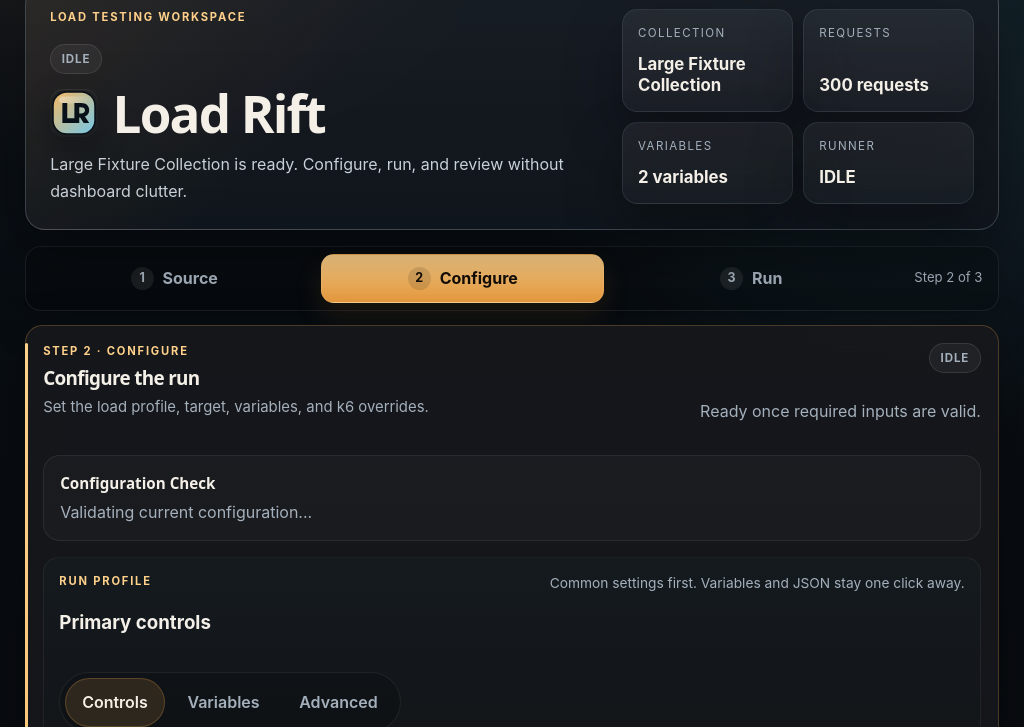
App collection summary › limits initial rendering for large request lists and reveals more on demand
The width and height of the screenshot is (1024, 727).
Click the tab "1 Source": [174, 278] box left=33, top=254, right=316, bottom=303
(page scrolled)
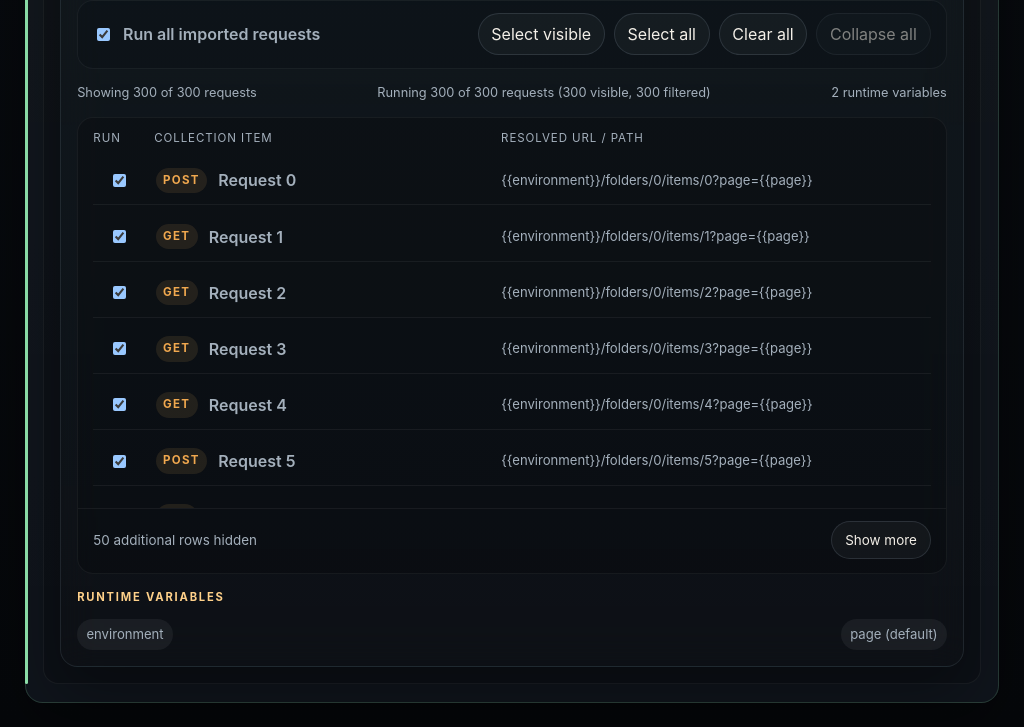
Expected: the text "Request 299" is not shown
Expected: the text "Request 0" is shown, left=218, top=168, right=296, bottom=192
Expected: the text "50 additional rows hidden" is shown, left=93, top=530, right=257, bottom=550
Click the button "Show more": [881, 540] box left=831, top=521, right=931, bottom=559
(page scrolled)
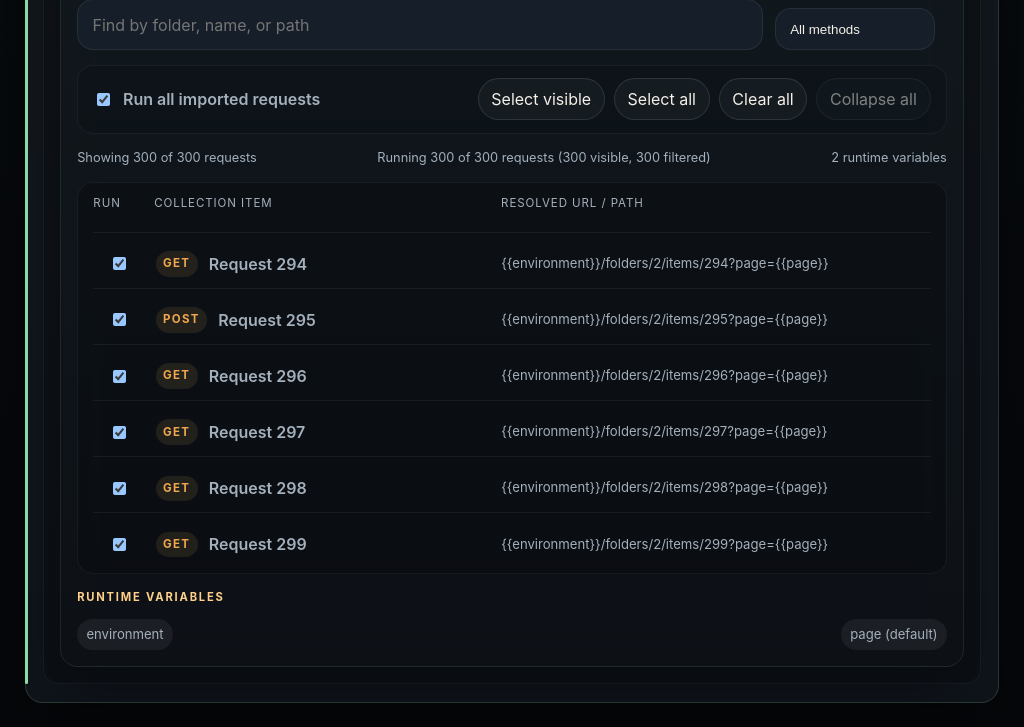
Expected: the text "Request 299" is shown, left=209, top=532, right=307, bottom=556
Expected: the button "Show more" is gone
